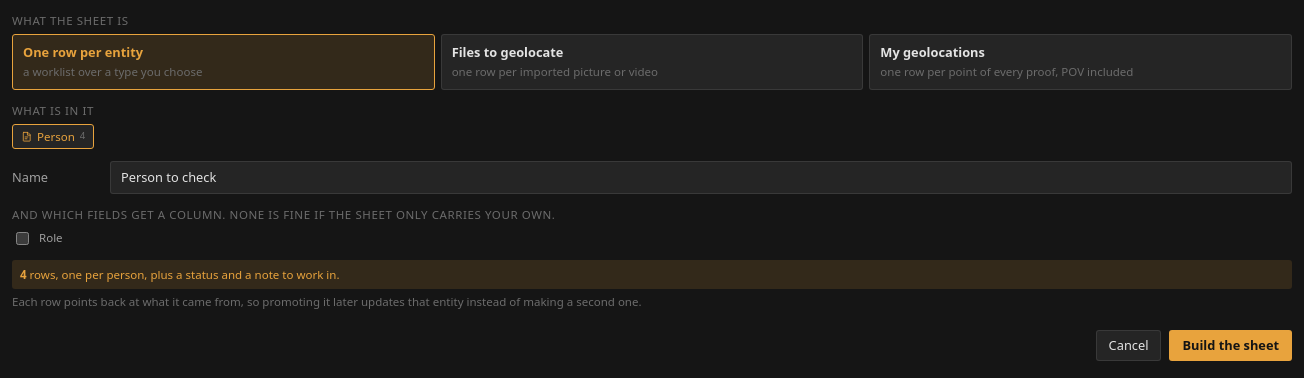
choosing what the sheet is › says the case holds no proofs rather than offering an empty build
The image size is (1304, 378).
Click the button that starts with "My geolocations".
click(1081, 62)  # box [869, 34, 1292, 90]
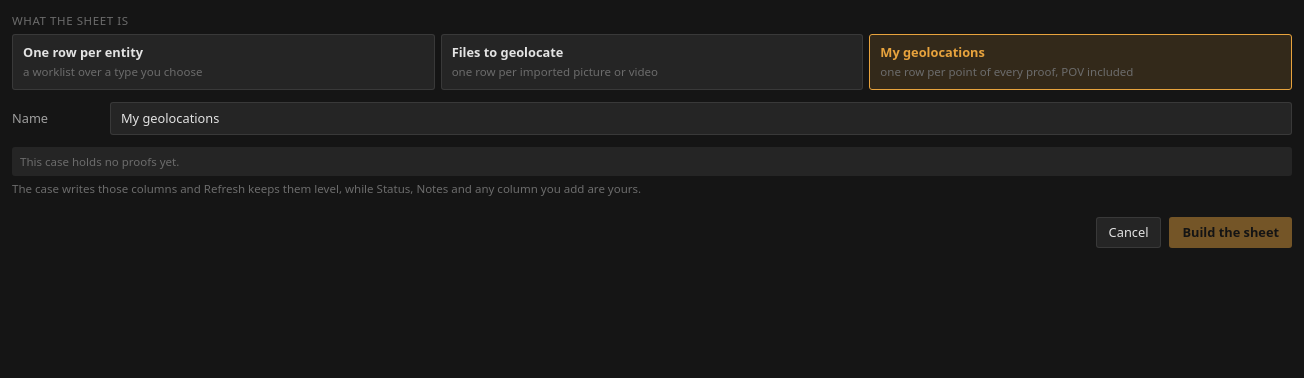
Now the text "This case holds no proofs yet" is shown, box [20, 154, 179, 169]
Now the button "Build the sheet" is disabled, box [1170, 217, 1292, 248]
